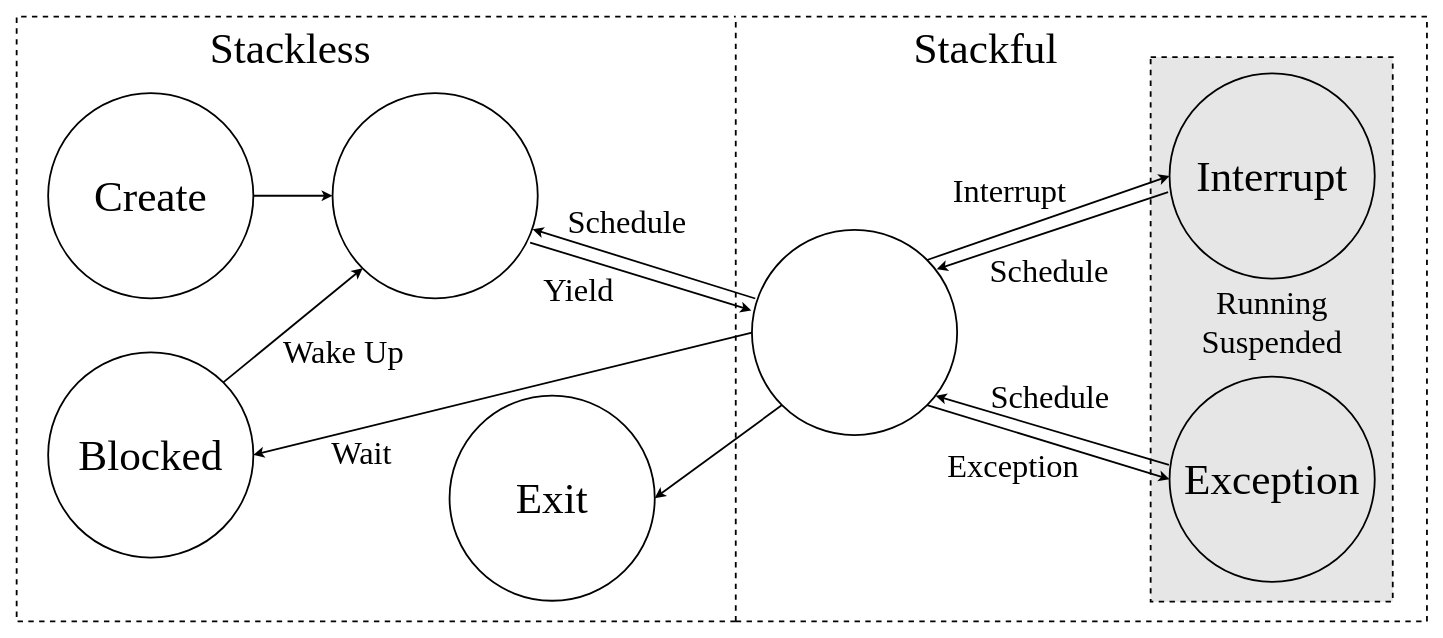
Image size: 1443x638. Some labels were removed from this diagram. The centre of each missing label's shape, as x and y in pixels:
Ready: pixel 434 195
Running: pixel 854 332
